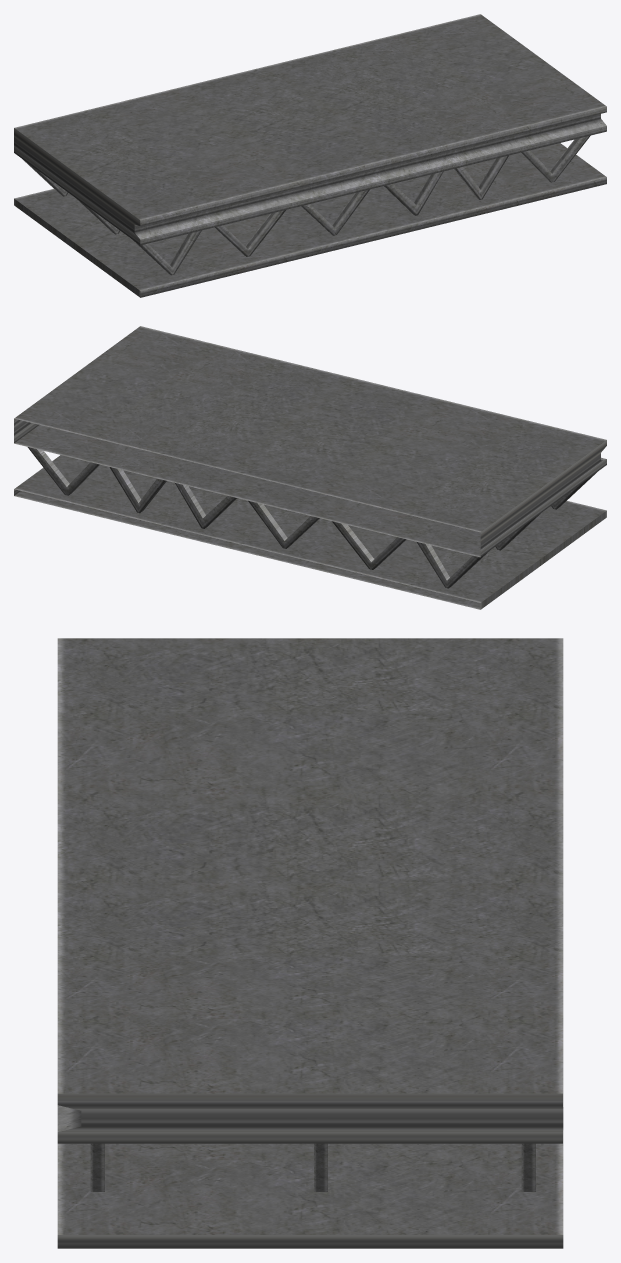
The model's file is girder01.FBX.
3 views of the same model, one above another, from view 1: azimuth 30°, elevation 25°; view 2: azimuth 150°, elevation 25°; view 3: azimuth 270°, elevation 25° (orthographic). The views are drawn at different scales.
Parts seen in each view (by area): view 1: girder01; view 2: girder01; view 3: girder01.
Part boxes in pixels (x1=…): girder01: x1=14, y1=14, x2=606, y2=297; girder01: x1=14, y1=326, x2=606, y2=609; girder01: x1=57, y1=638, x2=563, y2=1248.
Size of the model in its own units: 151 by 24.03 by 71.08.
